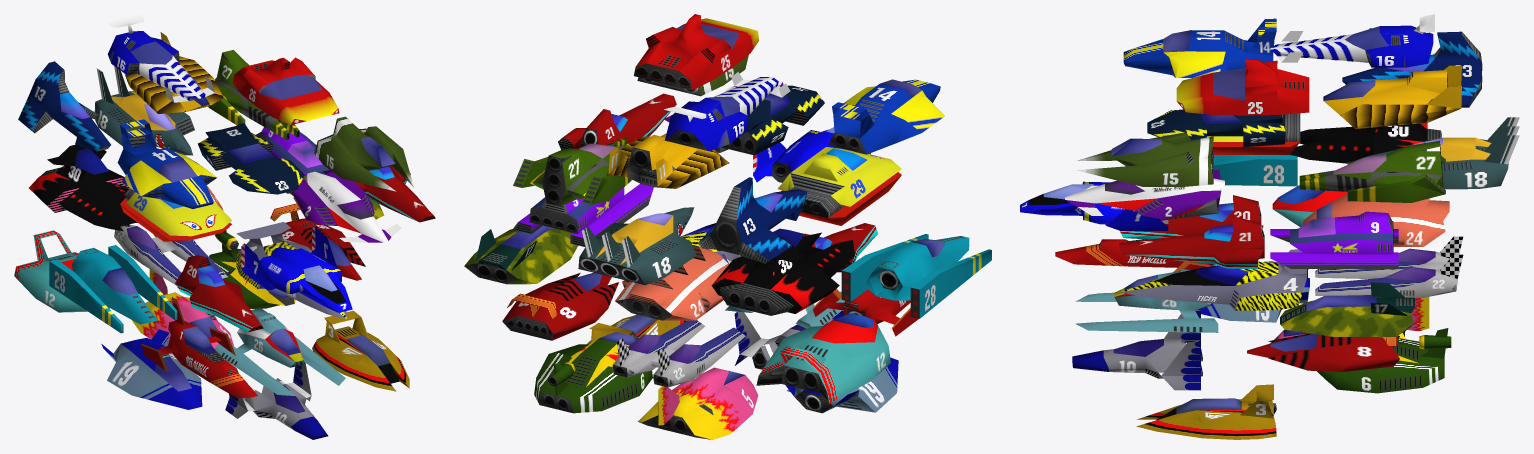
Rendered from fzeroracers.obj.
3 renders of one model, left to right at view 1: azimuth 30°, elevation 25°; view 2: azimuth 150°, elevation 25°; view 3: azimuth 270°, elevation 25°, orthographic. The views are drawn at different scales.
Parts seen in each view (by area): view 1: mesh00382, mesh0042, mesh00462, mesh00342, mesh0020, mesh00322, mesh0026, mesh00402, mesh00212, mesh00222, mesh00242, mesh0036 (+19 smaller); view 2: mesh00382, mesh0042, mesh0017, mesh00242, mesh00452, mesh00342, mesh00392, mesh00442, mesh0020, mesh00182, mesh00312, mesh00222 (+20 smaller); view 3: mesh00152, mesh00432, mesh00492, mesh00342, mesh00372, mesh00212, mesh00232, mesh00222, mesh0020, mesh00402, mesh00312, mesh0030 (+19 smaller).
Boxes of the visible parts, left/top/right/bottom form: mesh00382: left=49, top=245, right=177, bottom=333; mesh0042: left=29, top=144, right=137, bottom=231; mesh00462: left=241, top=226, right=352, bottom=312; mesh00342: left=232, top=57, right=339, bottom=124; mesh0020: left=117, top=133, right=217, bottom=208; mesh00322: left=198, top=123, right=304, bottom=194; mesh0026: left=107, top=338, right=202, bottom=409; mesh00402: left=312, top=310, right=409, bottom=391; mesh00212: left=314, top=116, right=413, bottom=191; mesh00222: left=107, top=14, right=214, bottom=102; mesh00242: left=94, top=66, right=194, bottom=155; mesh0036: left=214, top=308, right=345, bottom=396; mesh00382: left=841, top=234, right=991, bottom=318; mesh0042: left=711, top=228, right=854, bottom=315; mesh0017: left=756, top=313, right=890, bottom=403; mesh00242: left=578, top=207, right=696, bottom=285; mesh00452: left=534, top=331, right=652, bottom=413; mesh00342: left=634, top=14, right=758, bottom=90; mesh00392: left=778, top=147, right=901, bottom=225; mesh00442: left=638, top=367, right=758, bottom=439; mesh0020: left=828, top=79, right=944, bottom=154; mesh00182: left=698, top=177, right=807, bottom=263; mesh00312: left=612, top=320, right=745, bottom=387; mesh00222: left=664, top=71, right=790, bottom=151; mesh00152: left=1323, top=65, right=1461, bottom=128; mesh00432: left=1120, top=249, right=1306, bottom=310; mesh00492: left=1270, top=211, right=1398, bottom=268; mesh00342: left=1176, top=58, right=1309, bottom=115; mesh00372: left=1299, top=140, right=1445, bottom=202; mesh00212: left=1076, top=132, right=1213, bottom=186; mesh00232: left=1280, top=282, right=1414, bottom=336; mesh00222: left=1270, top=14, right=1434, bottom=67; mesh0020: left=1123, top=27, right=1274, bottom=77; mesh00402: left=1136, top=384, right=1276, bottom=439; mesh00312: left=1315, top=236, right=1463, bottom=297; mesh0030: left=1119, top=216, right=1264, bottom=268.
Size of the model in its own units: 13.96 by 12.15 by 16.4.
Materials: 29 (29 with a texture image).
